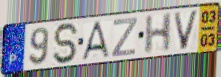9: (27, 26, 50, 68)
A: (80, 20, 112, 62)
H: (143, 11, 174, 56)
S: (52, 22, 80, 66)
V: (172, 9, 201, 52)
Z: (110, 16, 139, 59)
